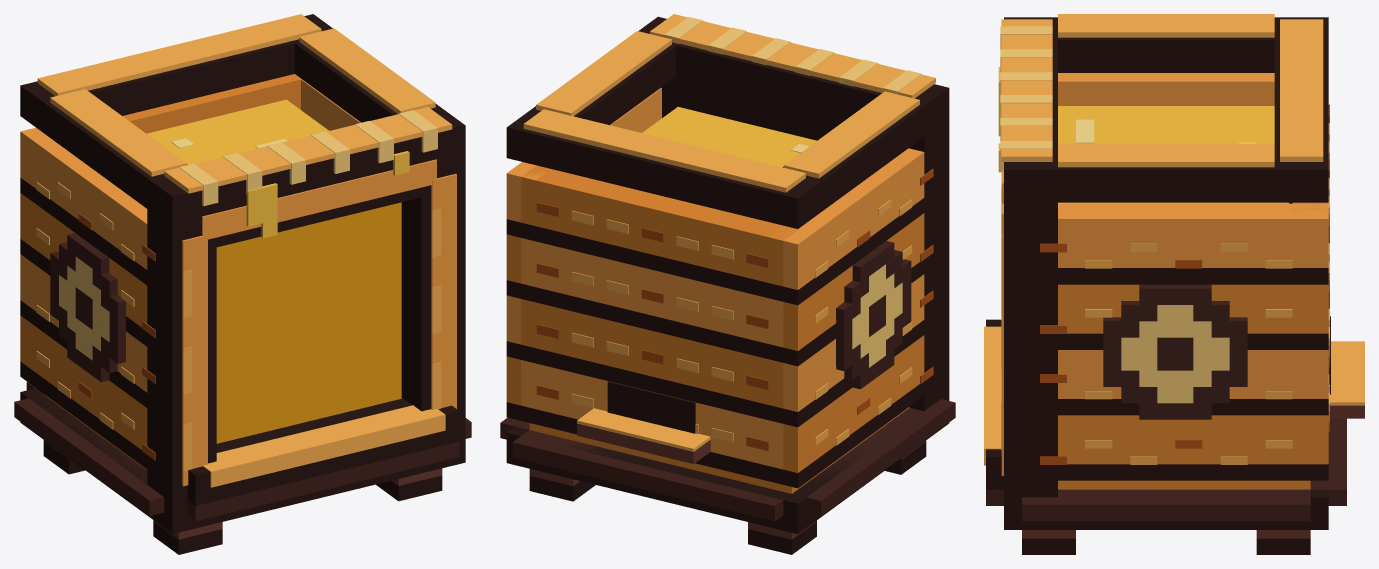
The model's file is hive.glb.
3 renders of one model, left to right at view 1: azimuth 30°, elevation 25°; view 2: azimuth 150°, elevation 25°; view 3: azimuth 270°, elevation 25°, orthographic. The views are drawn at different scales.
Visible parts, largest first — view 1: Hive_Shell, Honey_Fill, Honey_Surface; view 2: Hive_Shell, Honey_Surface; view 3: Hive_Shell, Honey_Surface.
Boxes of the visible parts, x1,y1,x2,y2 form: Hive_Shell: (14, 14, 471, 554); Honey_Fill: (216, 202, 401, 443); Honey_Surface: (147, 99, 328, 164); Hive_Shell: (500, 14, 955, 554); Honey_Surface: (642, 107, 816, 167); Hive_Shell: (984, 14, 1364, 554); Honey_Surface: (1058, 106, 1288, 203).
Bounding box in the file's own units: 3.08 × 3.41 × 2.95.
